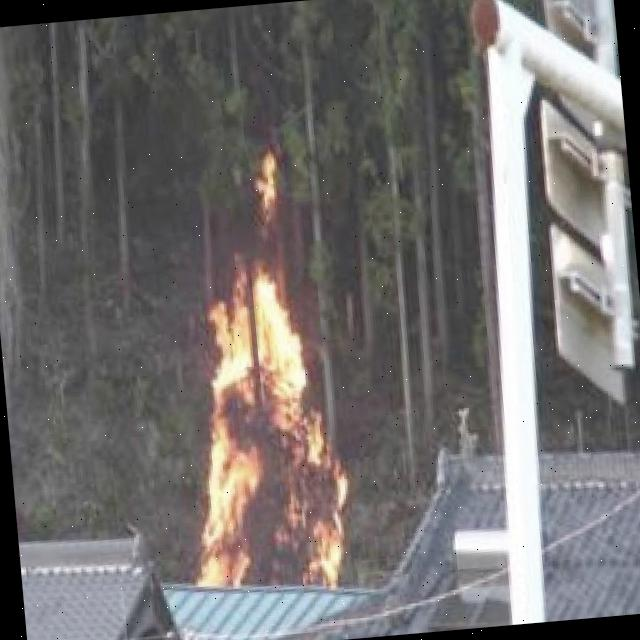fire: (171, 246, 356, 594)
